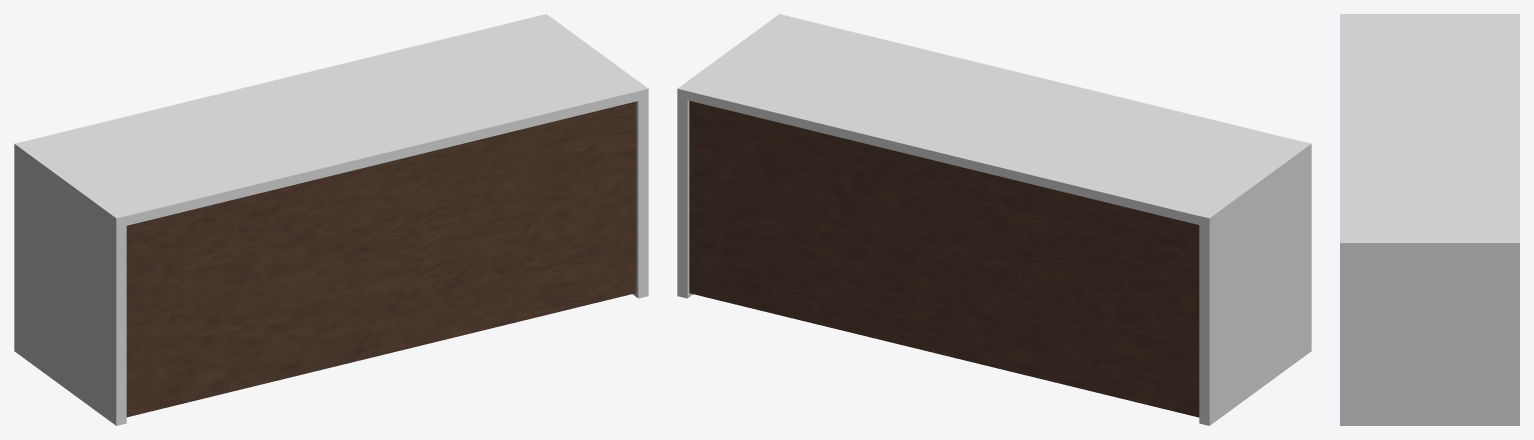
Rendered from Table.fbx.
3 views of the same model, side by side, from view 1: azimuth 30°, elevation 25°; view 2: azimuth 150°, elevation 25°; view 3: azimuth 270°, elevation 25° (orthographic). The views are drawn at different scales.
Parts seen in each view (by area): view 1: Table; view 2: Table; view 3: Table.
Boxes of the visible parts, <box> form: Table: <box>14,14,648,425</box>; Table: <box>677,14,1311,425</box>; Table: <box>1340,14,1519,425</box>.
Bounding box in the file's own units: 3.25 × 1.21 × 1.08.
